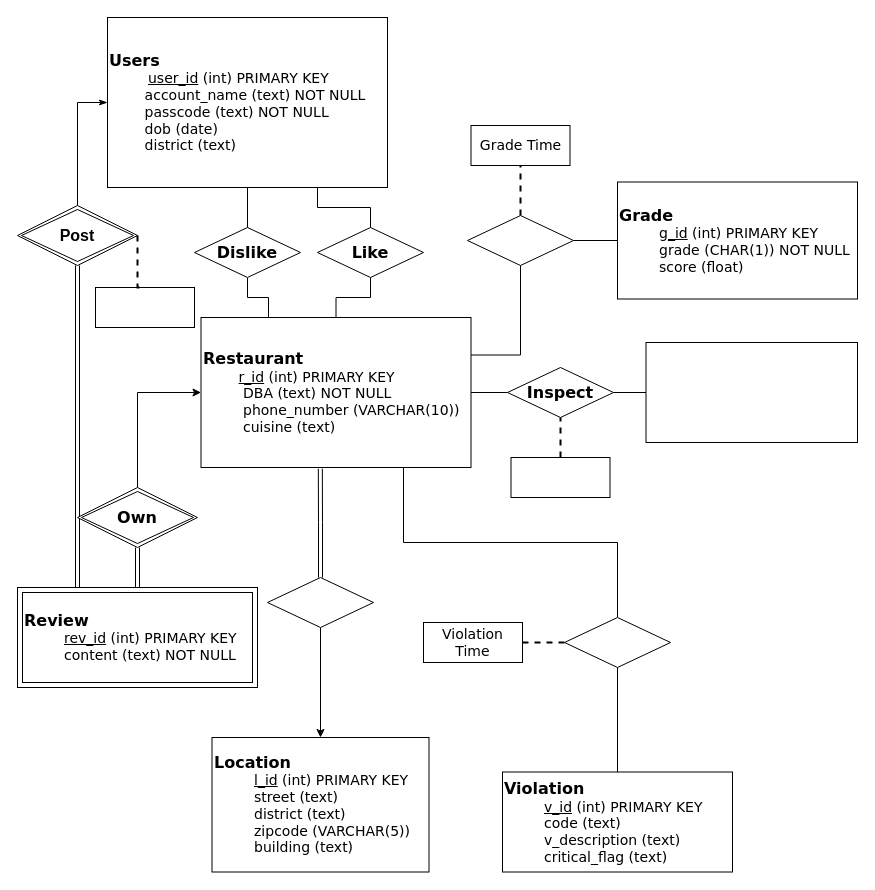
This 875x890 diagram has some shape labels left out. The shapes that lost their labels are listed below. From the top down, each one's box as (x1, y1, x2, y2) in pixels, then its label:
(466, 214, 574, 266): Graded
(94, 286, 194, 328): Post Time
(645, 342, 858, 442): Inspection i_id (int) PRIMARY KEY i_type (text)
(510, 456, 610, 498): Inspection Time
(266, 576, 374, 628): Locate
(564, 616, 670, 668): Violate
